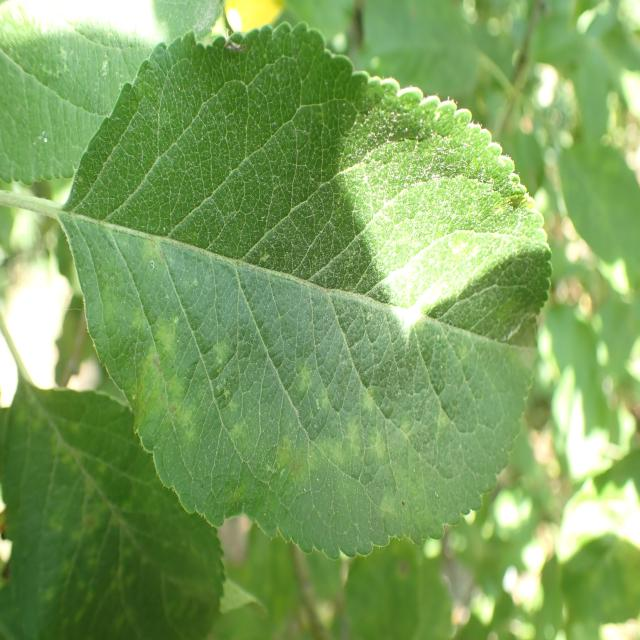scab: (78, 203, 522, 556), (7, 366, 188, 640)
